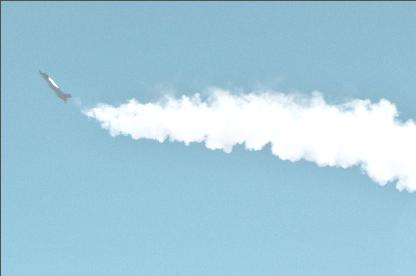F22: (38, 68, 72, 104)
